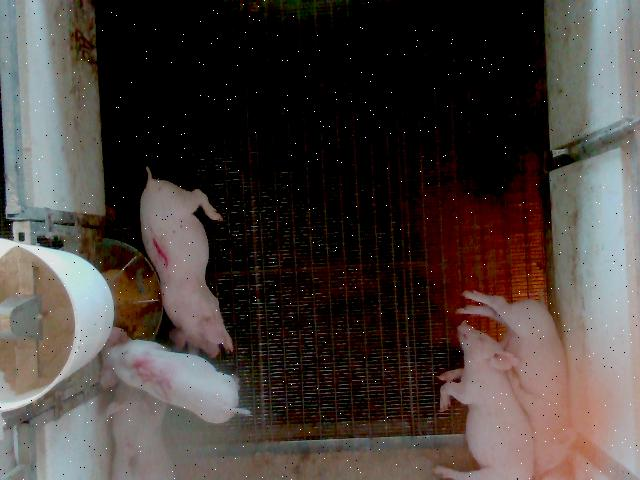pig-1: (140, 168, 232, 357)
pig-3: (109, 382, 174, 478)
pig-5: (101, 328, 250, 423)
